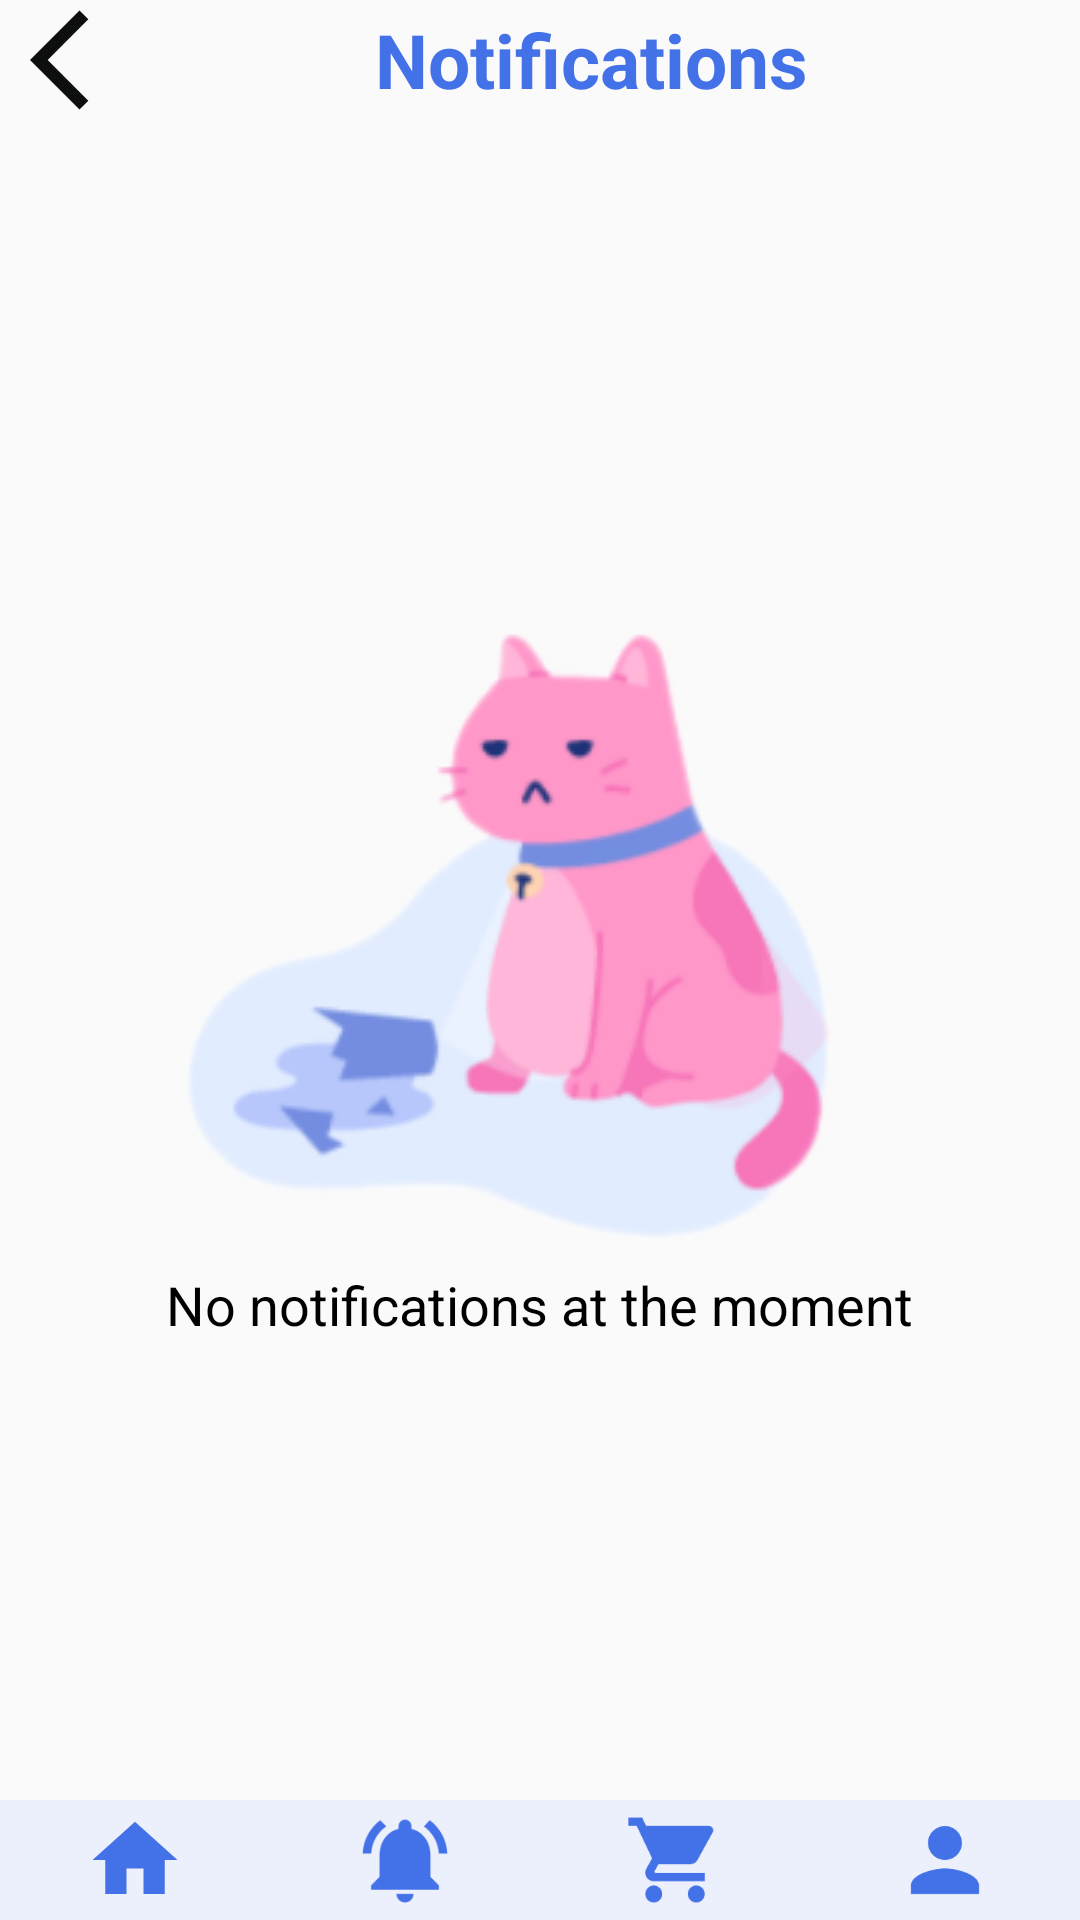

Screen size 1080w x 1920h. Icon name, then its box in pixels as region(x1, y1, x2, y2):
Back: region(30, 10, 89, 110)
cart: region(628, 1817, 714, 1903)
home: region(93, 1822, 177, 1894)
notifications: region(362, 1819, 448, 1903)
person: region(910, 1826, 980, 1894)
